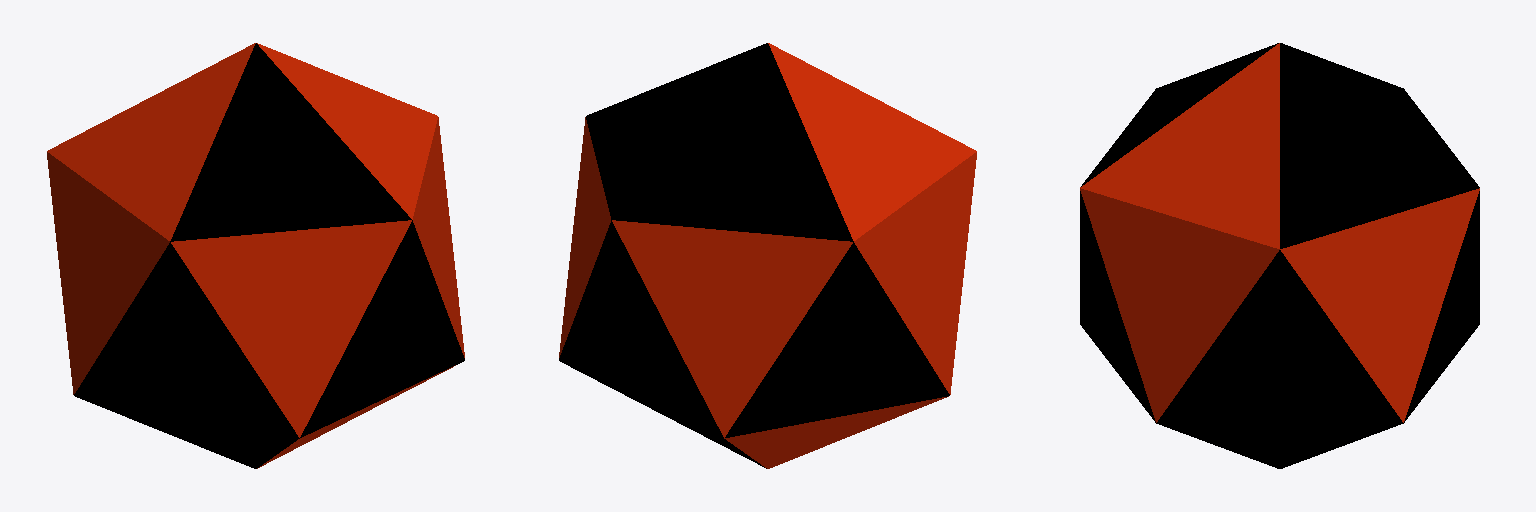
Rendered from icosahedron.obj.
3 views of the same model, side by side, from view 1: azimuth 30°, elevation 25°; view 2: azimuth 150°, elevation 25°; view 3: azimuth 270°, elevation 25° (orthographic).
Visible parts, largest first — view 1: Icosphere; view 2: Icosphere; view 3: Icosphere.
Boxes of the visible parts, box(x1,y1,x2,y2) form: Icosphere: box(47, 43, 464, 468); Icosphere: box(559, 43, 976, 468); Icosphere: box(1080, 43, 1479, 468).
Bounding box in the file's own units: 1.79 × 2 × 1.7.